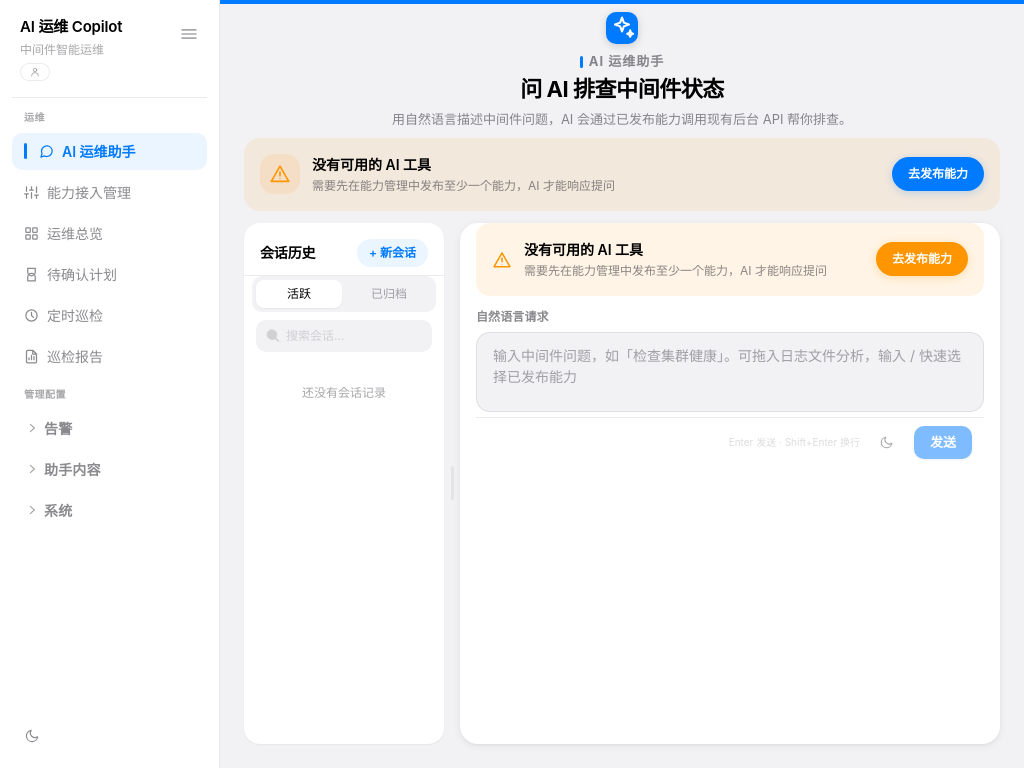
Test: Capability Console › shows guidance to publish capabilities when none are published
Check: the element with test id "assistant-capability-empty" is shown, box [244,138,1000,210]
Check: the element with test id "assistant-capability-empty" shows "没有可用的 AI 工具", box [312,156,431,172]
Click the button with test id "assistant-capability-empty-action" at (938, 174), box [892,157,984,191]
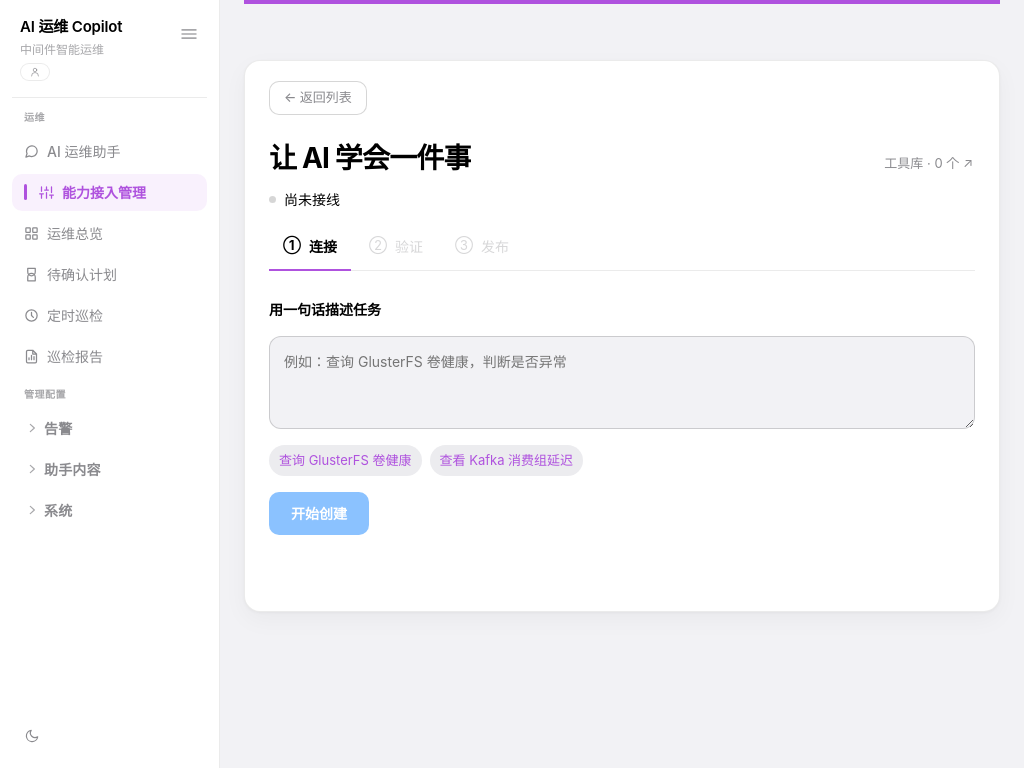
Check: the element with test id "management-entry" is shown
